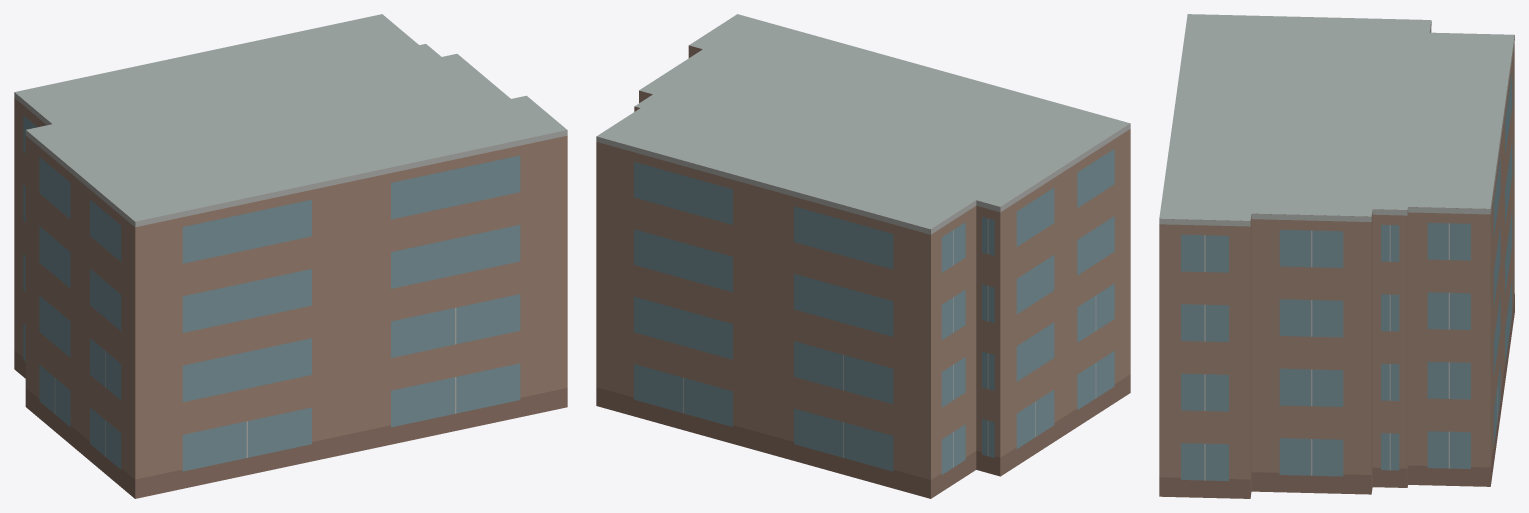
Rendered from survey-upis-32658089.glb.
3 views of the same model, side by side, from view 1: azimuth 30°, elevation 25°; view 2: azimuth 150°, elevation 25°; view 3: azimuth 270°, elevation 25° (orthographic). The views are drawn at different scales.
Visible parts, largest first — view 1: survey-upis-32658089.tmp; view 2: survey-upis-32658089.tmp; view 3: survey-upis-32658089.tmp.
Boxes of the visible parts, x1,y1,x2,y2 form: survey-upis-32658089.tmp: [14, 14, 567, 498]; survey-upis-32658089.tmp: [596, 14, 1130, 498]; survey-upis-32658089.tmp: [1159, 14, 1514, 498].
Size of the model in its own units: 19.5 by 12.2 by 14.15.
